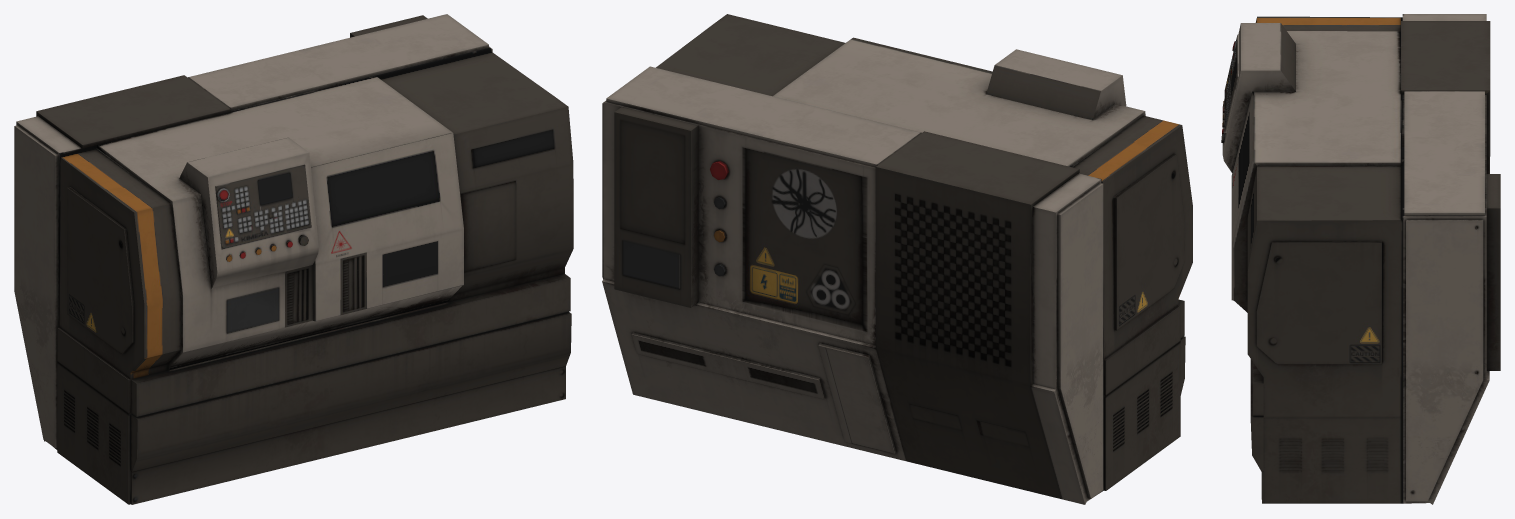
The model's file is newnew.gltf.
The picture shows the model from 3 angles, left to right: view 1: azimuth 30°, elevation 25°; view 2: azimuth 150°, elevation 25°; view 3: azimuth 270°, elevation 25°; orthographic projection. The views are drawn at different scales.
Visible parts, largest first — view 1: Object005; view 2: Object005; view 3: Object005.
Part boxes in pixels (x1,y1,x2,y2): Object005: (14,14,573,504); Object005: (602,14,1192,504); Object005: (1221,14,1500,504).
Bounding box in the file's own units: 186 × 130 × 106.
Materials: 1 (1 with a texture image).
